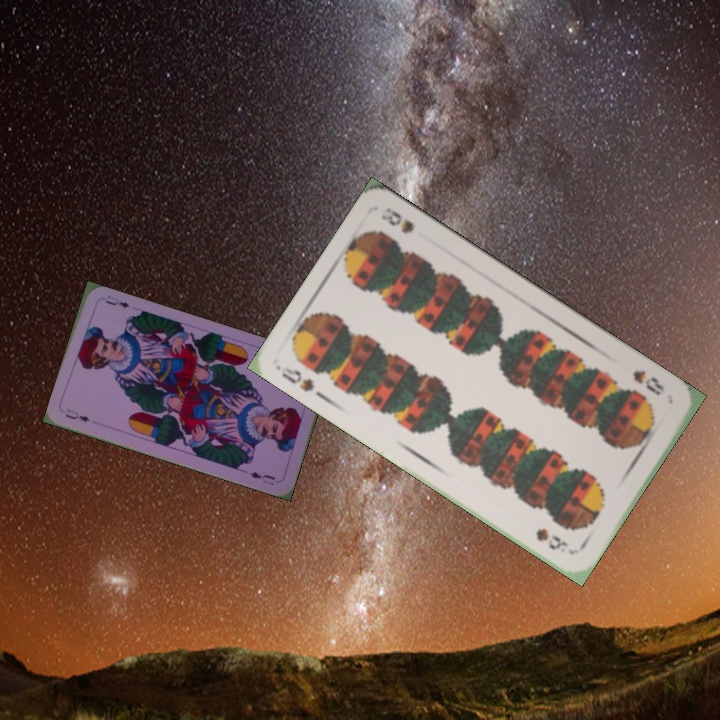EU: (61, 405, 92, 425)
S8: (275, 362, 317, 395), (628, 366, 668, 399)
